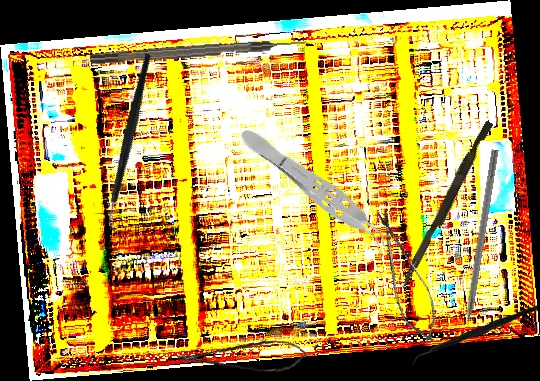Chopper: (54, 52, 209, 234), (410, 304, 539, 368)
Hook Surgical: (459, 148, 499, 343), (89, 37, 307, 65)
Micro Scissor: (363, 202, 448, 352), (177, 331, 307, 376)
Pusher: (399, 118, 494, 293)
Tissue Forceps: (233, 120, 400, 261)
